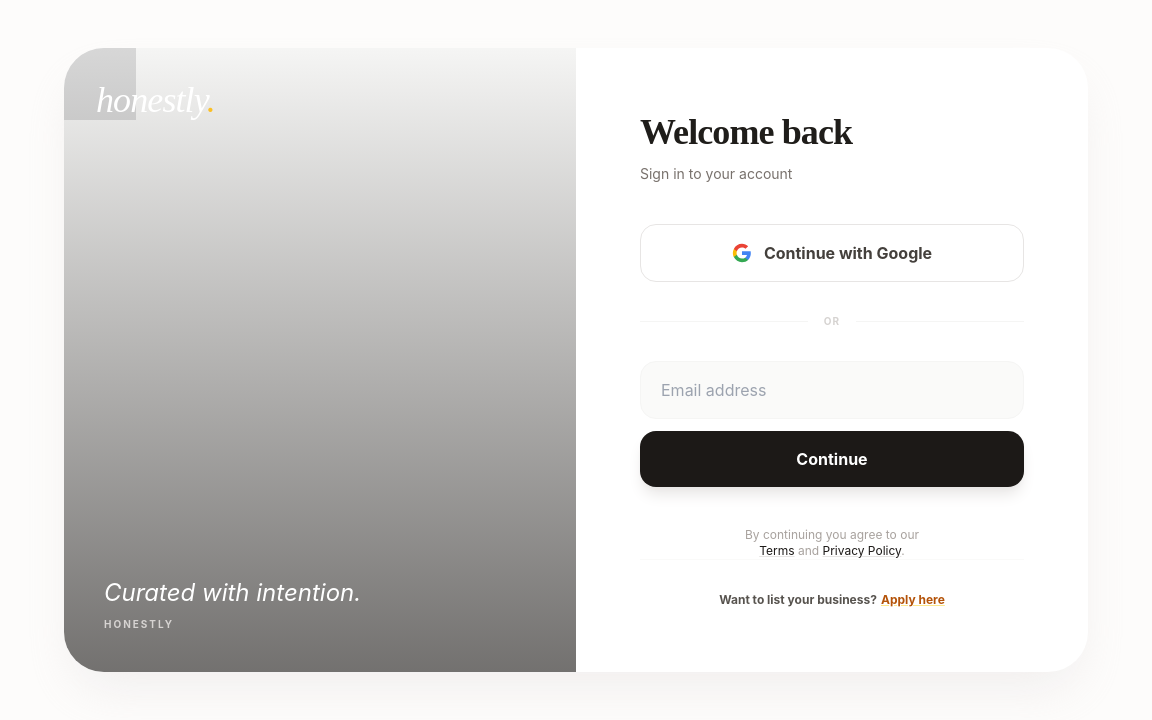
it: AuthScreen › shows a success message after requesting an email sign-in link
This screenshot has width=1152, height=720.
Type "avery@example.com" into the field labelled "Email address" at (832, 390), box [640, 361, 1024, 419]
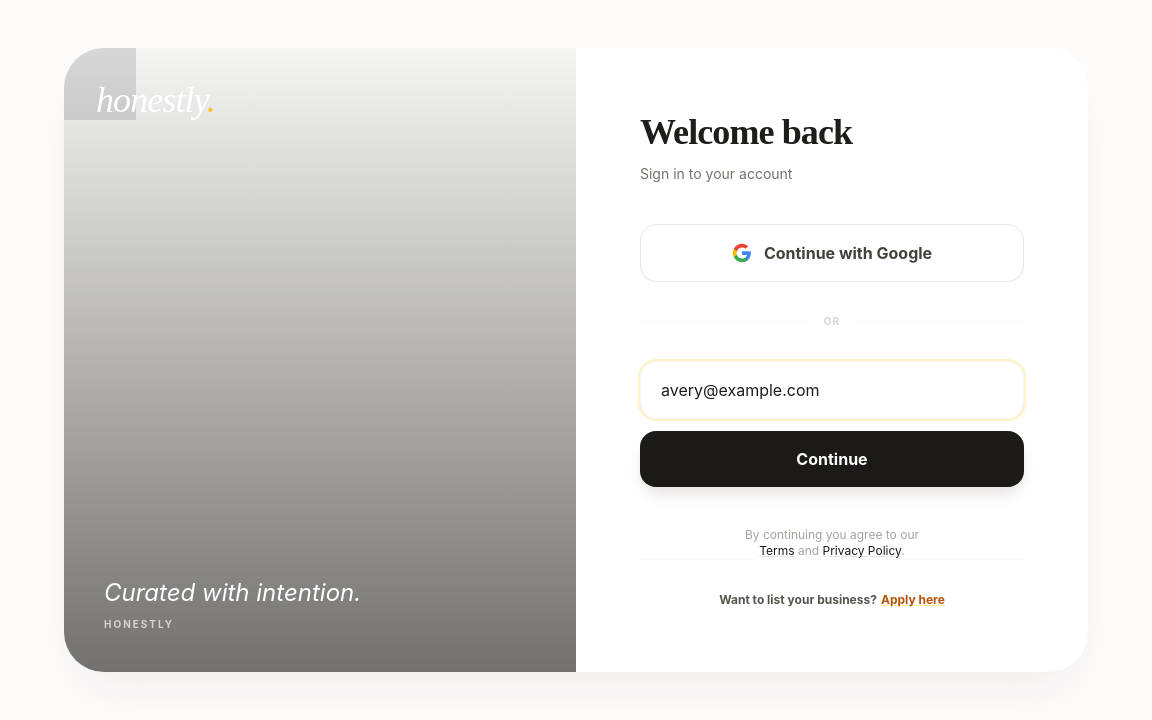
Click the button "Continue" at (832, 459), box [640, 431, 1024, 487]
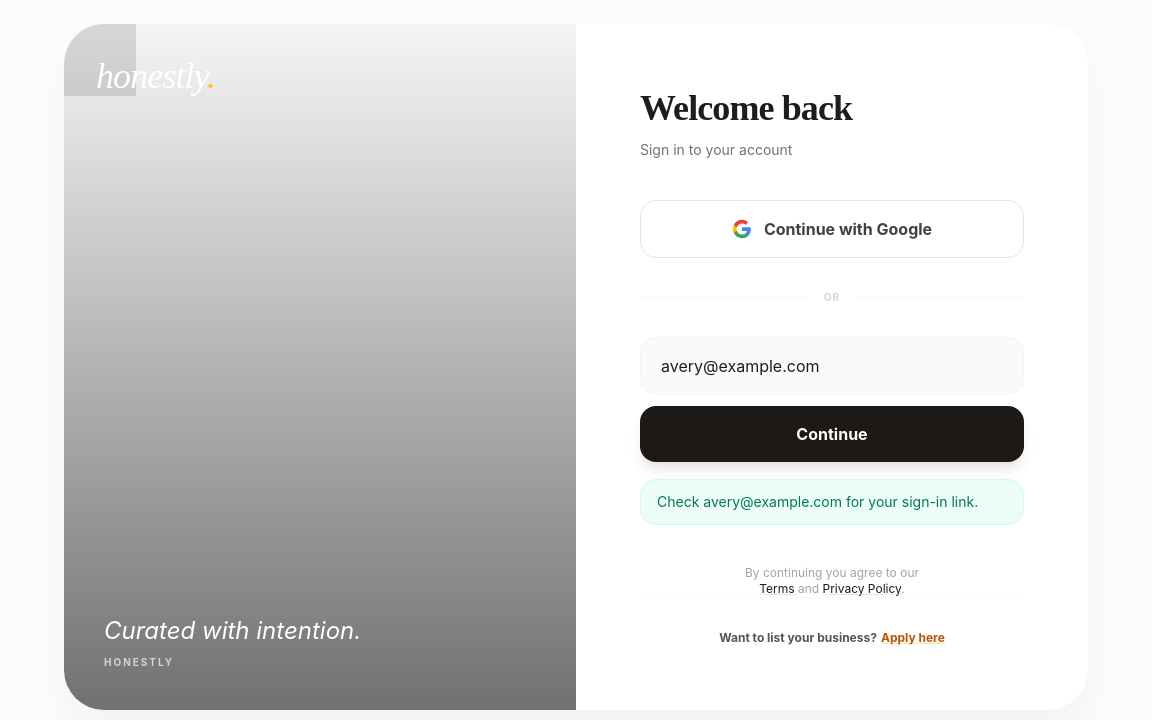
Result: the text "Check avery@example.com for your sign-in link." is shown at [640, 479, 1024, 525]
